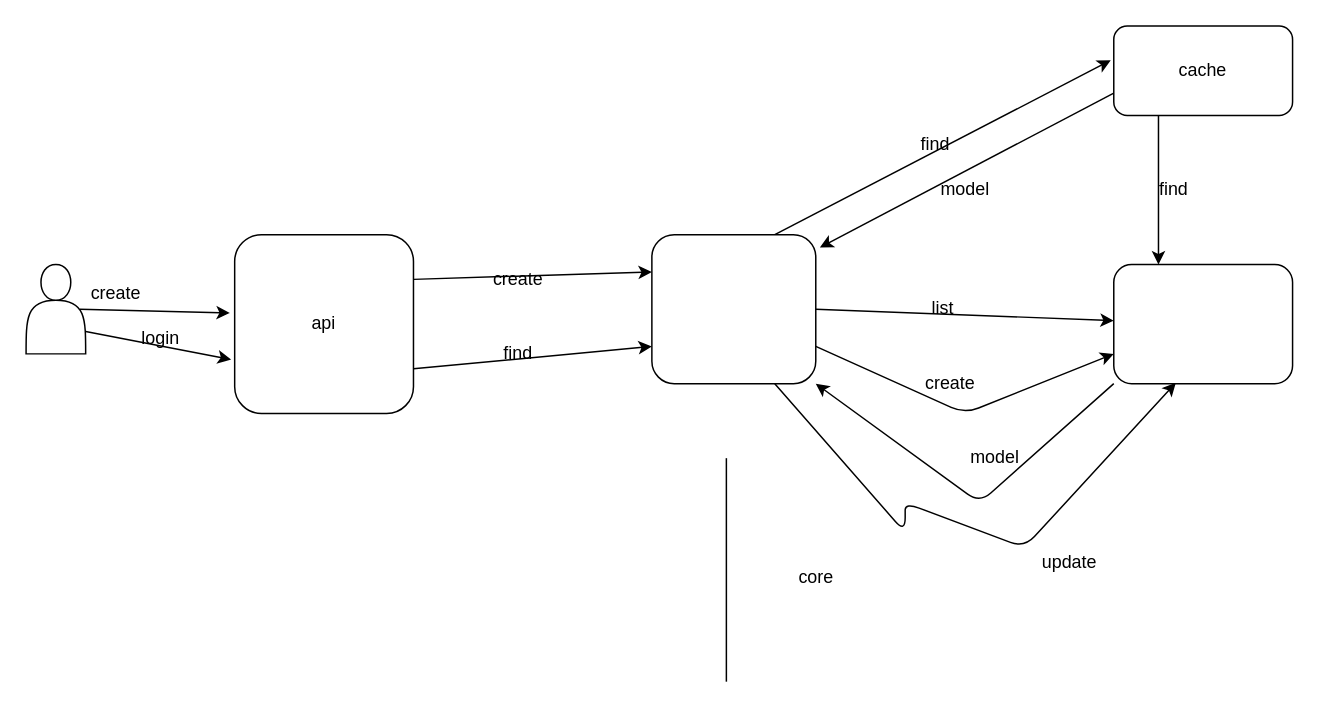
Some shapes in this 1319 by 709 pixel diagram are drawn without their labels. Here are the shapes that lost their labels. From the top down, the centre of each, then its label:
[733,308]: user service
[1202,323]: db
